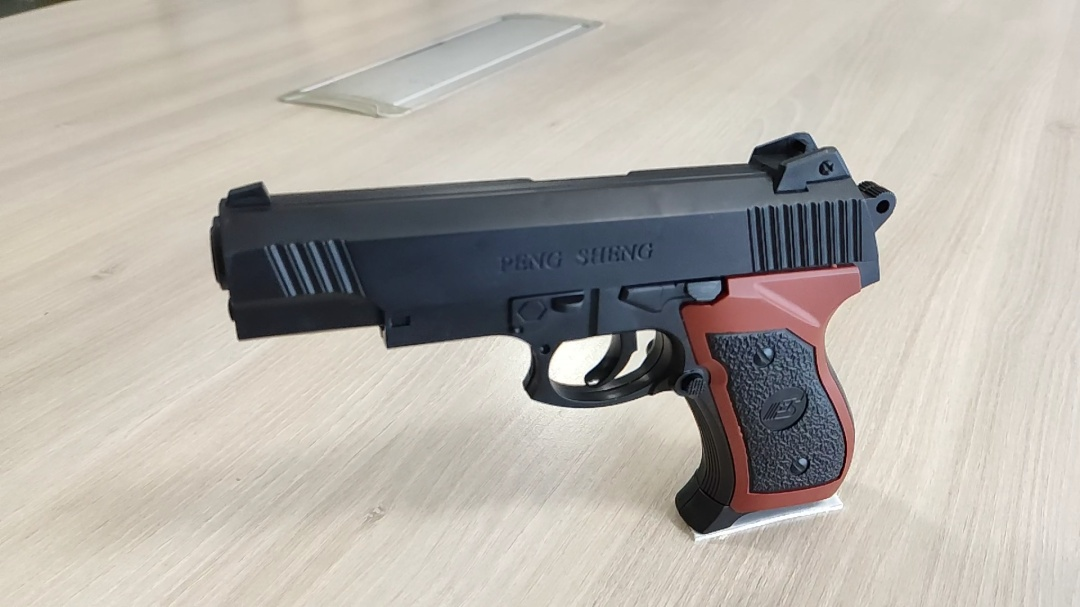gun: (316, 233, 372, 290)
